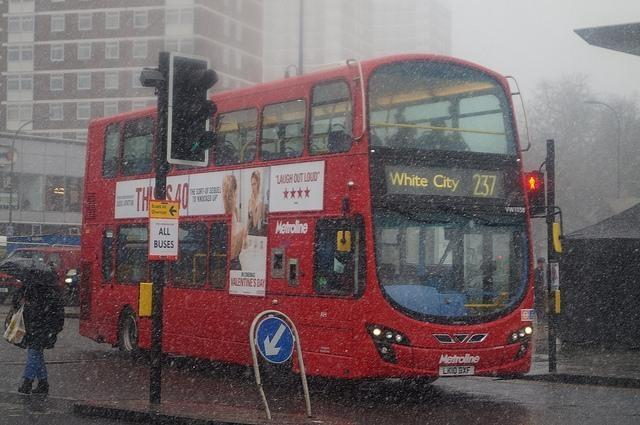bus: (75, 52, 535, 378)
car: (2, 242, 86, 303)
